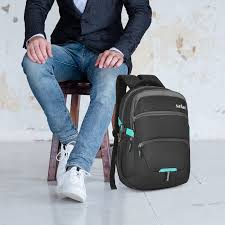backpack: (109, 74, 190, 190)
